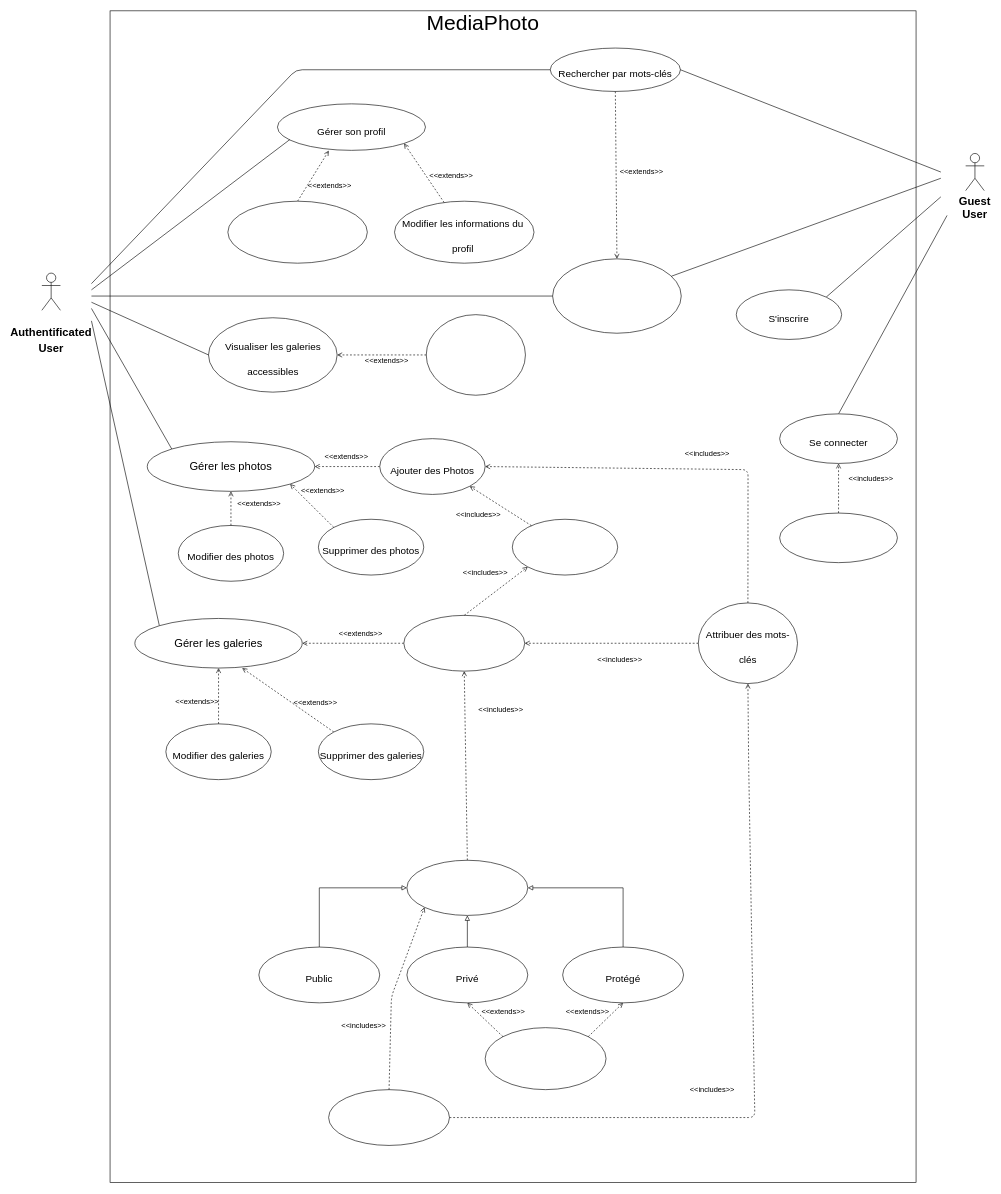
Some shapes in this 1001 by 1194 pixel diagram are drawn without their labels. Each missing label, with the box of its shape:
Ajouter des utilisateurs: (485, 1027, 606, 1090)
Commenter les photos: (426, 314, 525, 395)
Créer des Galeries: (403, 615, 525, 671)
Préciser type galerie: (406, 860, 528, 915)
Publier: (328, 1089, 450, 1145)
Se déconnecter: (227, 201, 367, 263)
Stocker des photos: (512, 519, 618, 575)
Visualiser les galeries publiques: (552, 258, 681, 333)
Vérifier le compte: (779, 512, 897, 563)
